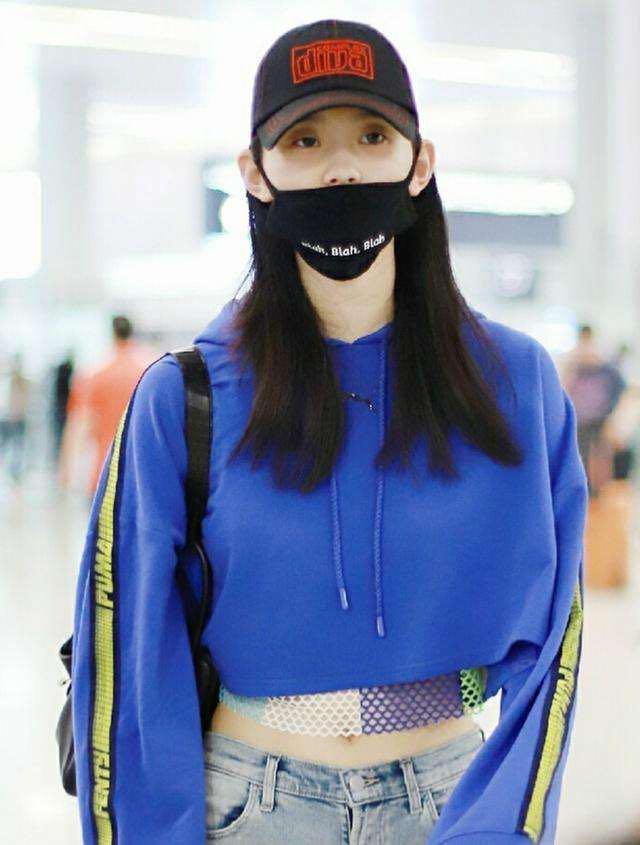WRONG: (269, 94, 411, 277)
